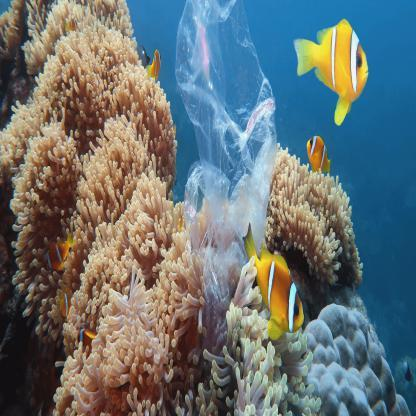Rác: (170, 7, 276, 270)
